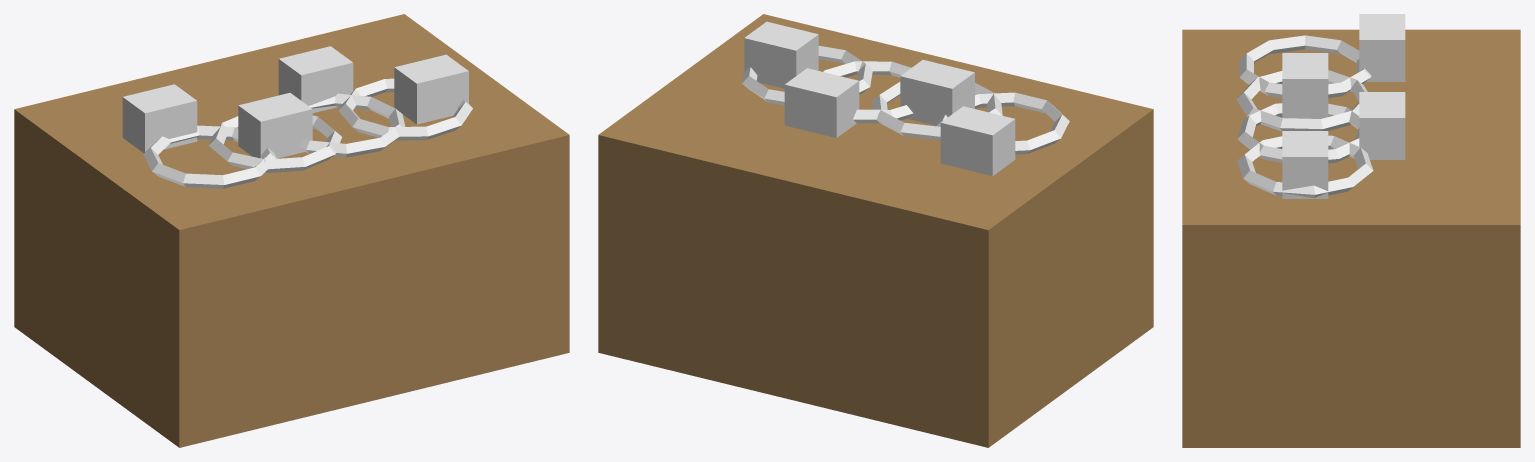
Rendered from chargers_box.glb.
The picture shows the model from 3 angles, left to right: view 1: azimuth 30°, elevation 25°; view 2: azimuth 150°, elevation 25°; view 3: azimuth 270°, elevation 25°; orthographic projection. The views are drawn at different scales.
Parts seen in each view (by area): view 1: box_cardboard, chargers_charger_white, cables_charger_white; view 2: box_cardboard, chargers_charger_white, cables_charger_white; view 3: box_cardboard, chargers_charger_white, cables_charger_white.
Part boxes in pixels (x1,y1,x2,y2): box_cardboard: (14, 14, 569, 447); chargers_charger_white: (122, 46, 468, 158); cables_charger_white: (143, 78, 472, 188); box_cardboard: (598, 14, 1153, 447); chargers_charger_white: (744, 21, 1015, 176); cables_charger_white: (742, 45, 1069, 154); box_cardboard: (1182, 29, 1520, 447); chargers_charger_white: (1282, 14, 1405, 198); cables_charger_white: (1236, 35, 1373, 198).
Bounding box in the file's own units: 0.3 × 0.19 × 0.22.
